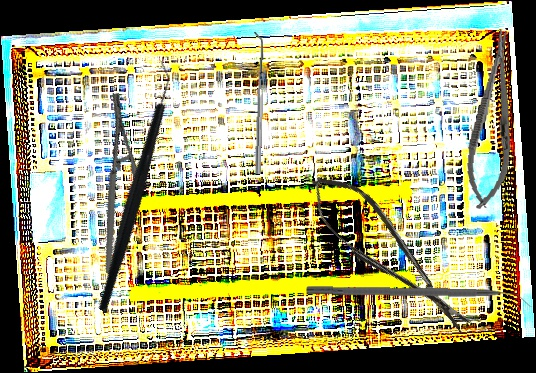Chopper: (18, 58, 247, 315), (304, 286, 534, 310)
Micro Scissor: (298, 160, 481, 350)
Needle Holder: (48, 90, 175, 275), (460, 26, 527, 213)
Spatula Surgical: (249, 31, 266, 175)
